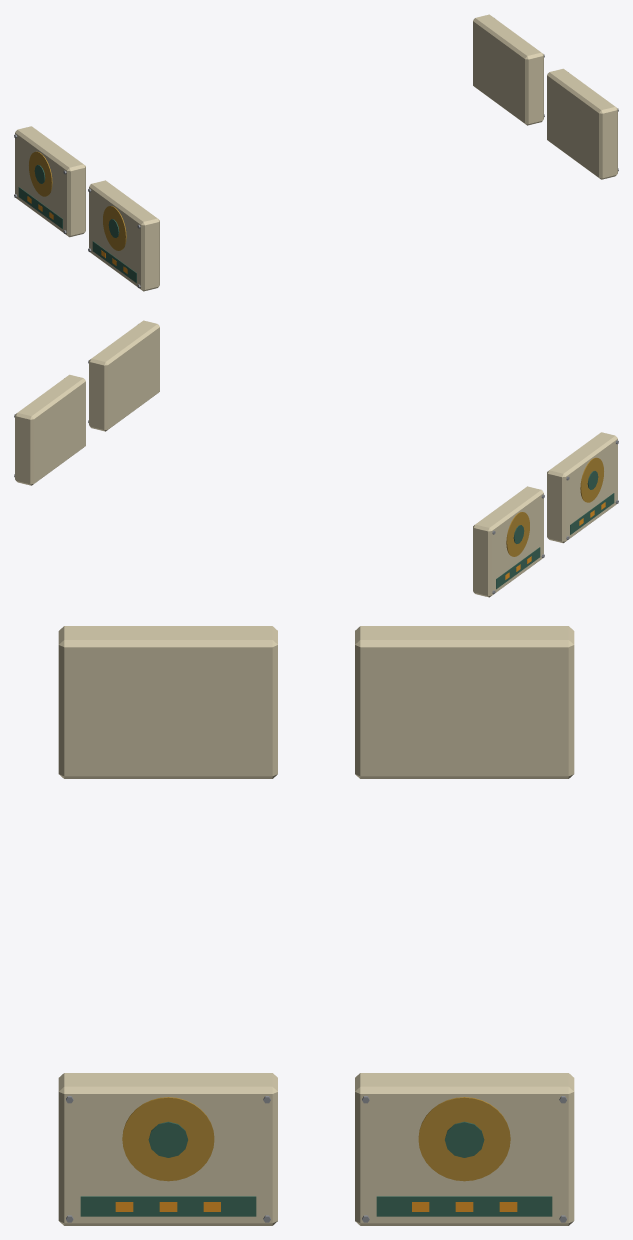
The model's file is hangar2_chargers.obj.
3 views of the same model, one above another, from view 1: azimuth 30°, elevation 25°; view 2: azimuth 150°, elevation 25°; view 3: azimuth 270°, elevation 25° (orthographic). The views are drawn at different scales.
Visible parts, largest first — view 1: hangar2_chargers; view 2: hangar2_chargers; view 3: hangar2_chargers.
Boxes of the visible parts, <box> form: hangar2_chargers: <box>14,14,618,291</box>; hangar2_chargers: <box>14,320,618,597</box>; hangar2_chargers: <box>58,626,574,1225</box>.
Bounding box in the file's own units: 10.1 × 1.4 × 4.7.
